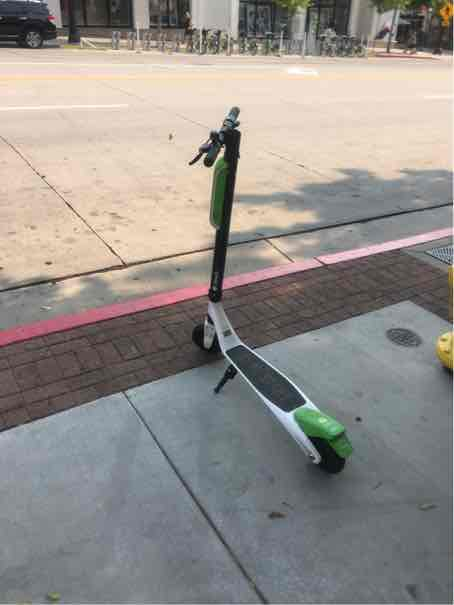scooter: (191, 91, 358, 487)
